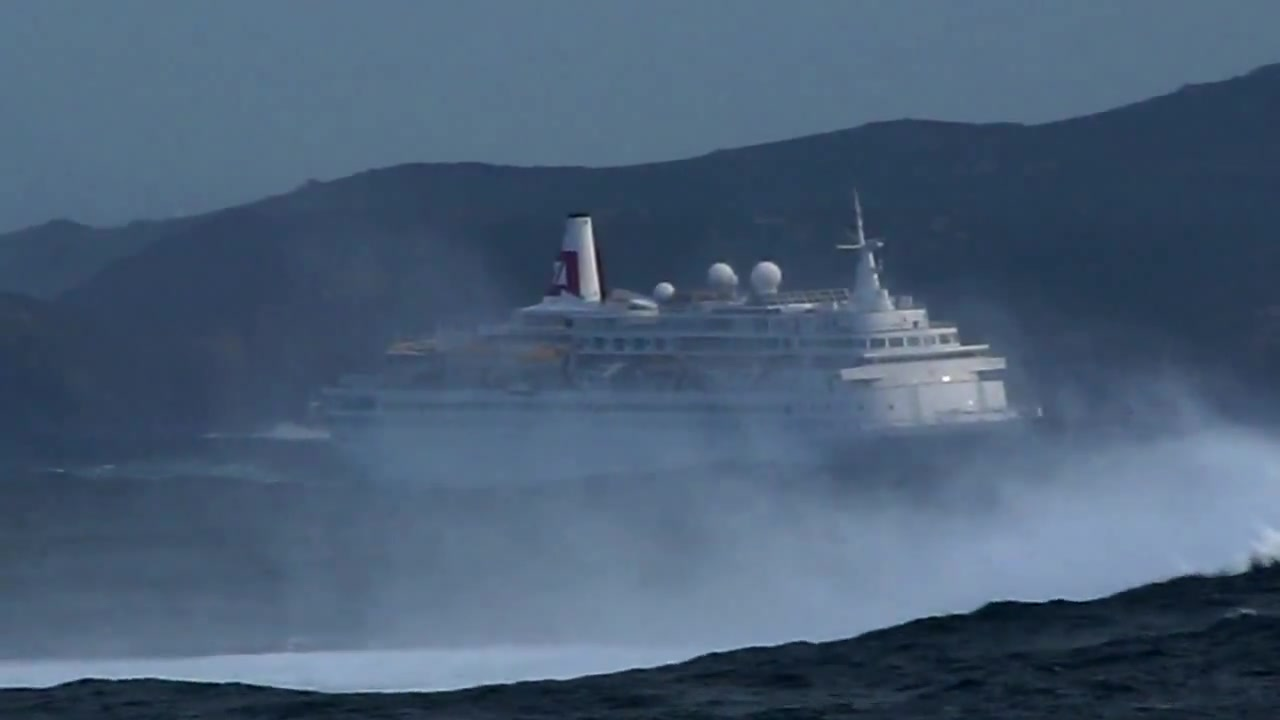boat: (320, 202, 1067, 496)
